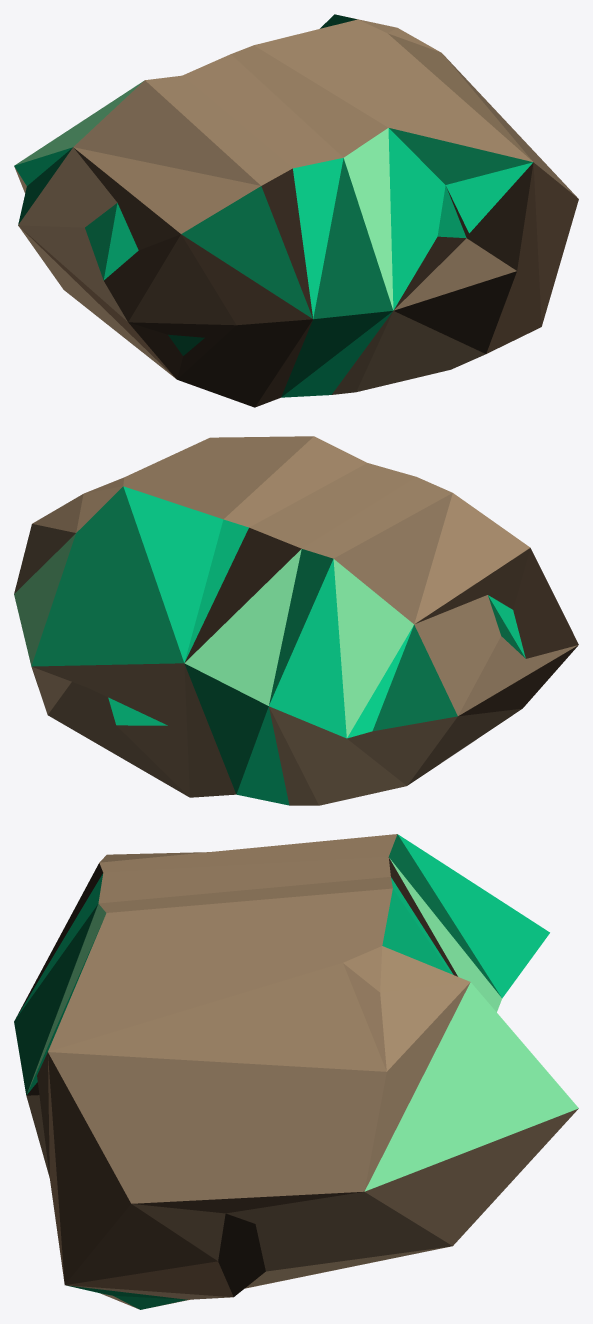
Rendered from MalachiteOreRock.glb.
The picture shows the model from 3 angles, top to bottom: view 1: azimuth 30°, elevation 25°; view 2: azimuth 150°, elevation 25°; view 3: azimuth 270°, elevation 25°; orthographic projection. The views are drawn at different scales.
Visible parts, largest first — view 1: MalachiteOreRock_ExportDarkBrown; view 2: MalachiteOreRock_ExportDarkBrown; view 3: MalachiteOreRock_ExportDarkBrown.
Boxes of the visible parts, box(x1,y1,x2,y2) form: MalachiteOreRock_ExportDarkBrown: box(14, 14, 578, 407); MalachiteOreRock_ExportDarkBrown: box(14, 436, 578, 805); MalachiteOreRock_ExportDarkBrown: box(14, 834, 578, 1309).
Bounding box in the file's own units: 0.2701 × 0.1591 × 0.2236.
